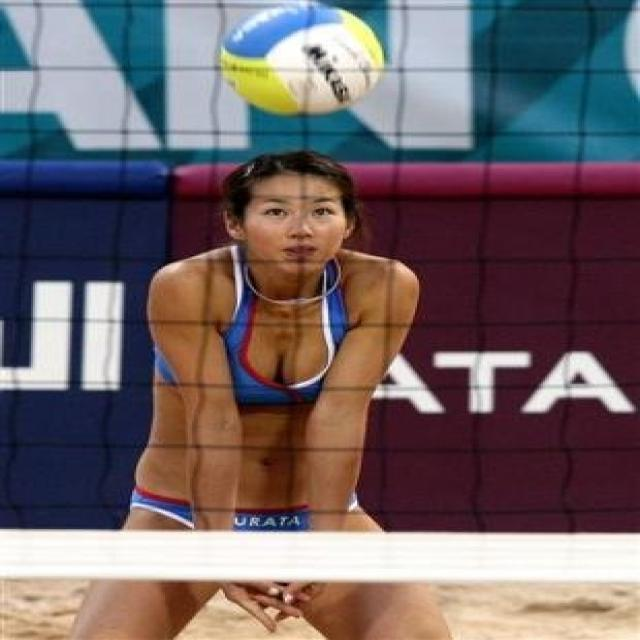volleyball: (220, 4, 386, 114)
